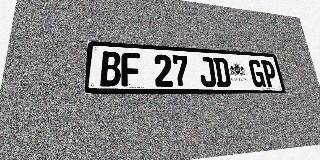2: (154, 54, 173, 87)
7: (171, 55, 190, 87)
B: (100, 51, 121, 86)
D: (213, 57, 231, 87)
F: (121, 52, 141, 87)
G: (248, 59, 266, 87)
J: (198, 57, 217, 87)
P: (261, 60, 278, 87)
